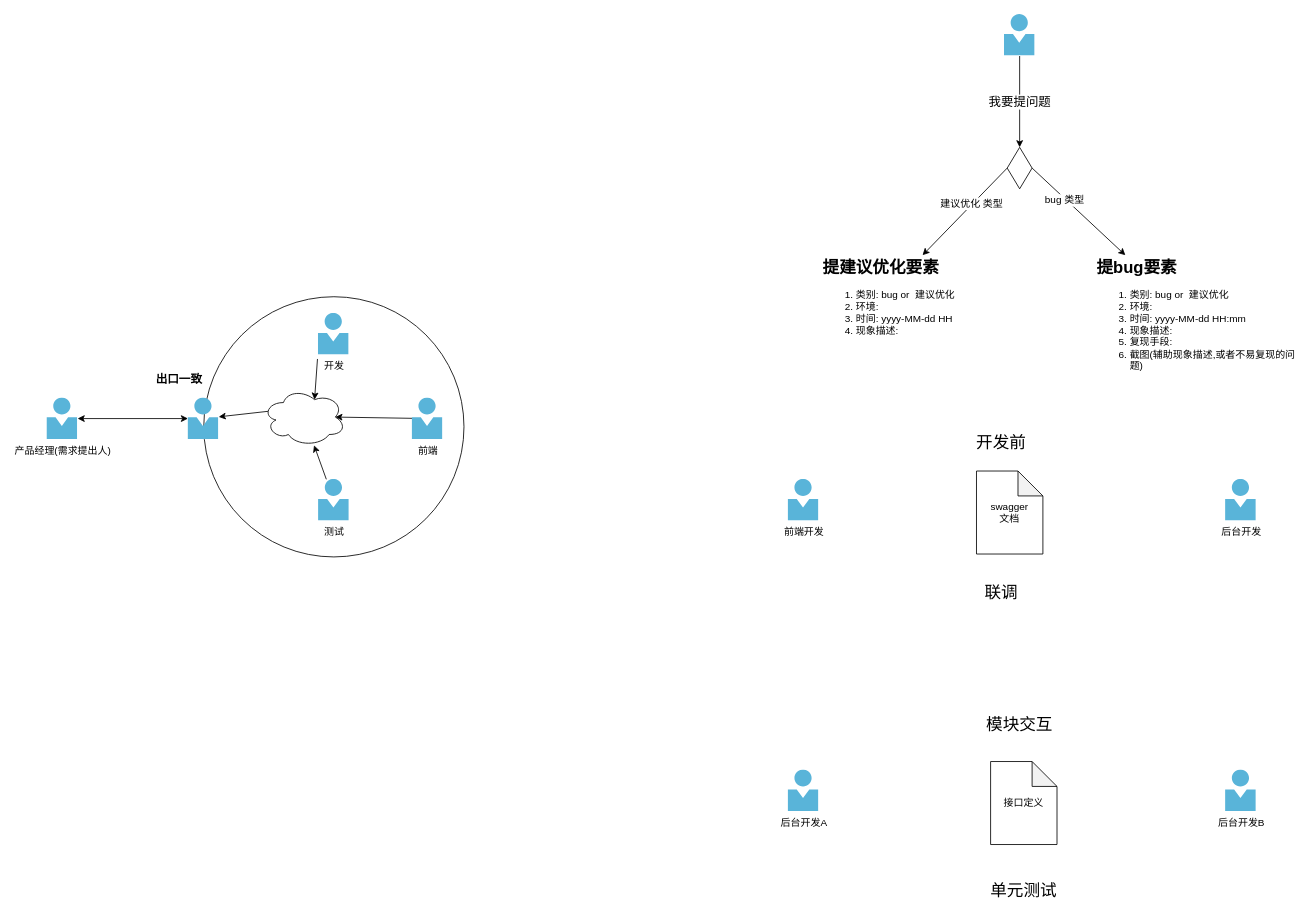
Image size: 1315x916. Some labels were removed from this diagram. The centre of each missing label's shape, as x and y in pixels:
"测试员" belongs at (1019,35).
"组长" belongs at (203,418).
"需求争议 排期争议" belongs at (304,416).
